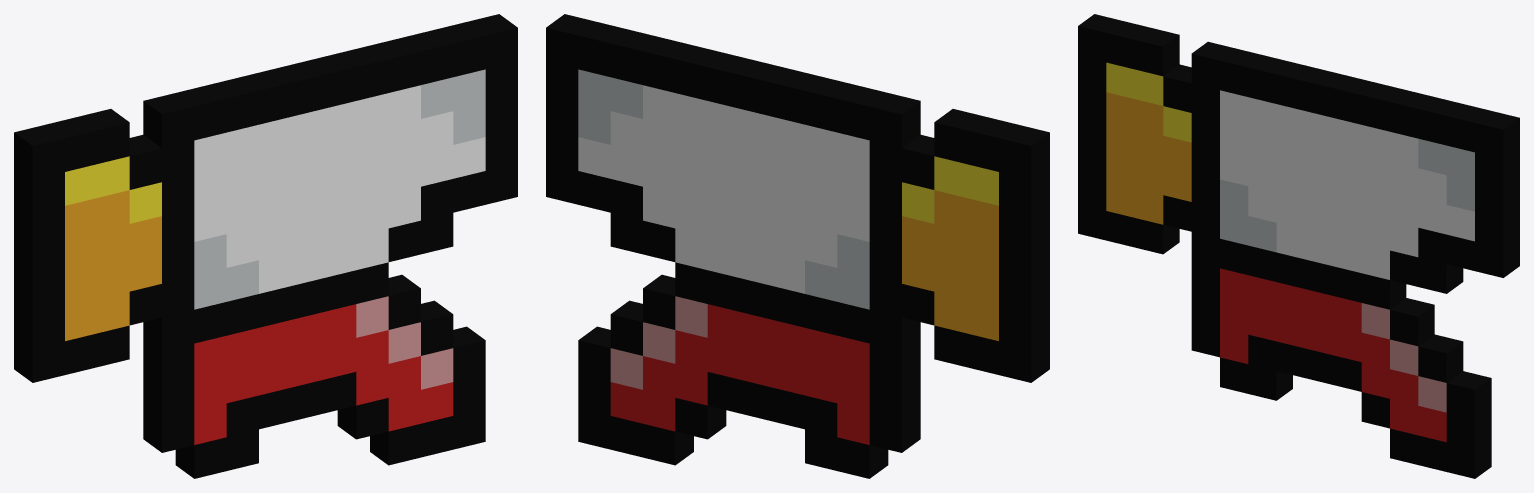
File: White Heavy Paintball Gun.glb
3 renders of one model, left to right at view 1: azimuth 30°, elevation 25°; view 2: azimuth 150°, elevation 25°; view 3: azimuth 330°, elevation 25°, orthographic. The views are drawn at different scales.
Visible parts, largest first — view 1: generated(Clone); view 2: generated(Clone); view 3: generated(Clone).
Boxes of the visible parts, x1,y1,x2,y2 form: generated(Clone): [14, 14, 517, 478]; generated(Clone): [546, 14, 1049, 478]; generated(Clone): [1078, 14, 1519, 478].
Size of the model in its own units: 15 by 12 by 0.9998.
Materials: 1 (1 with a texture image).
